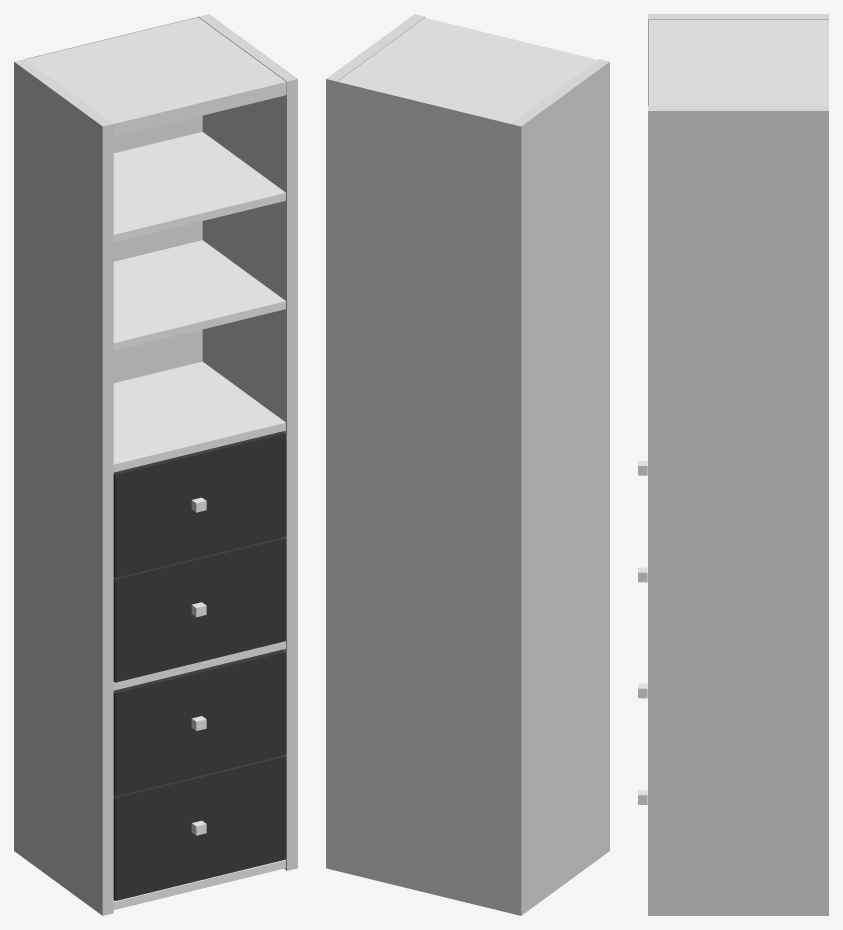
File: shelf_058.glb
3 renders of one model, left to right at view 1: azimuth 30°, elevation 25°; view 2: azimuth 150°, elevation 25°; view 3: azimuth 270°, elevation 25°, orthographic.
Visible parts, largest first — view 1: shelf_058; view 2: shelf_058; view 3: shelf_058.
Boxes of the visible parts, left/top/right/bottom form: shelf_058: left=14, top=14, right=297, bottom=915; shelf_058: left=326, top=14, right=609, bottom=915; shelf_058: left=638, top=14, right=828, bottom=915.
Size of the model in its own units: 0.6366 by 2.46 by 0.5287.
Materials: 1 (1 with a texture image).
